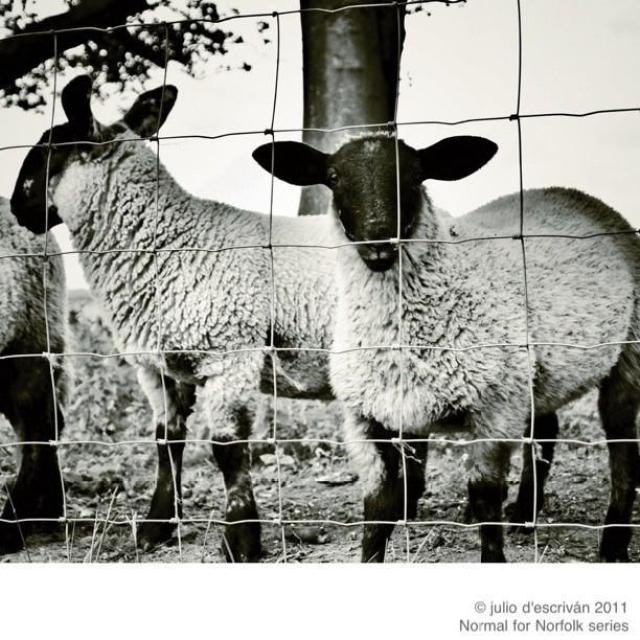Sheep: (251, 132, 639, 568), (250, 132, 639, 566), (12, 73, 345, 570), (0, 197, 78, 558)
